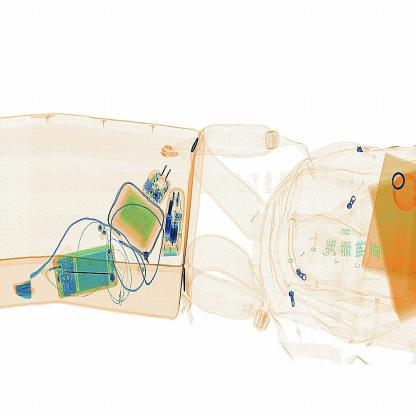pliers: (57, 260, 123, 294)
